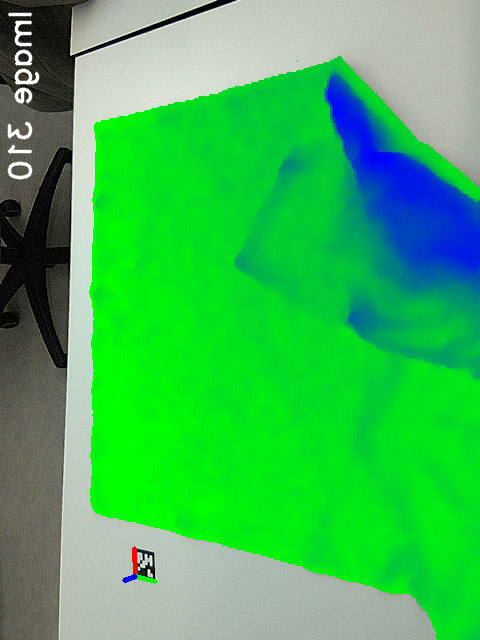V: (226, 231, 276, 292)
